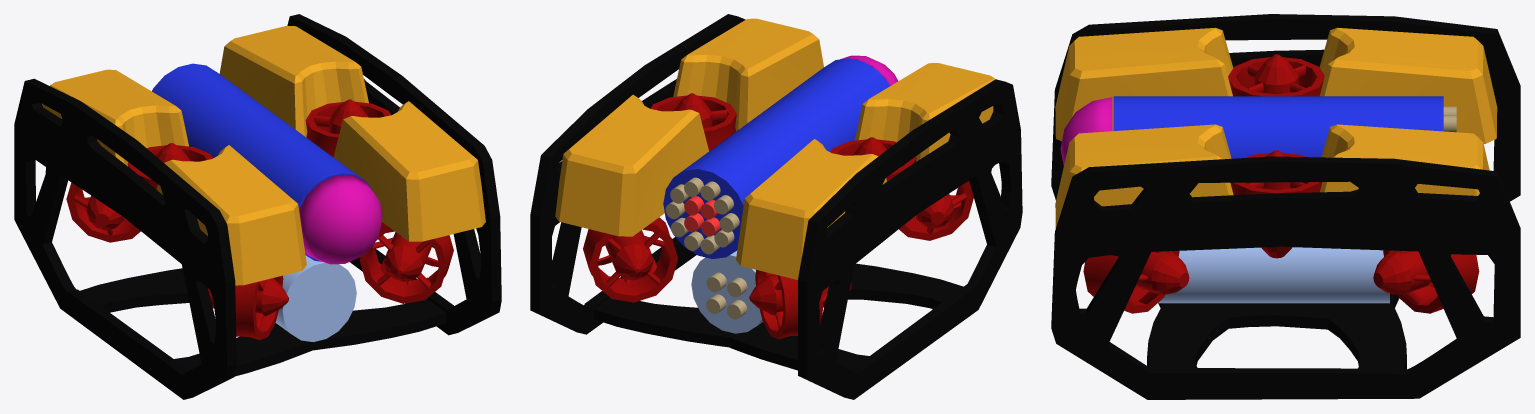
File: ROV2.fbx
3 renders of one model, left to right at view 1: azimuth 30°, elevation 25°; view 2: azimuth 150°, elevation 25°; view 3: azimuth 270°, elevation 25°, orthographic. The views are drawn at different scales.
Visible parts, largest first — view 1: Side001, Body002, Cylinder001, Sphere001, Cylinder002, Thruster004, Thruster002, Thruster003, Thruster001, Thruster; view 2: Side001, Body002, Cylinder001, Thruster005, Cylinder018, Cylinder002, Thruster003, Thruster002, Thruster001, Cylinder015, Thruster, Sphere001; view 3: Side001, Body002, Cylinder001, Cylinder002, Thruster005, Thruster, Thruster004, Thruster001, Sphere001.
Part boxes in pixels (x1,y1,x2,y2): Side001: [14, 14, 501, 399]; Body002: [42, 25, 485, 285]; Cylinder001: [152, 63, 371, 261]; Sphere001: [299, 174, 382, 264]; Cylinder002: [275, 255, 356, 341]; Thruster004: [359, 222, 453, 303]; Thruster002: [208, 275, 288, 340]; Thruster003: [66, 182, 140, 242]; Thruster001: [305, 99, 391, 156]; Thruster: [127, 143, 212, 189]; Side001: [530, 14, 1022, 399]; Body002: [555, 18, 995, 279]; Cylinder001: [663, 58, 889, 258]; Thruster005: [583, 217, 677, 302]; Cylinder018: [665, 177, 747, 319]; Cylinder002: [691, 250, 762, 333]; Thruster003: [749, 270, 851, 339]; Thruster002: [899, 181, 973, 240]; Thruster001: [650, 93, 736, 151]; Cylinder015: [684, 196, 720, 236]; Thruster: [830, 137, 916, 181]; Sphere001: [840, 55, 897, 85]; Side001: [1051, 14, 1520, 399]; Body002: [1055, 27, 1497, 228]; Cylinder001: [1113, 96, 1443, 158]; Cylinder002: [1158, 247, 1389, 303]; Thruster005: [1373, 250, 1479, 313]; Thruster: [1228, 54, 1324, 96]; Thruster004: [1083, 250, 1189, 313]; Thruster001: [1230, 150, 1322, 258]; Sphere001: [1060, 97, 1112, 165].
Size of the model in its own units: 42.79 by 32.22 by 57.48.
